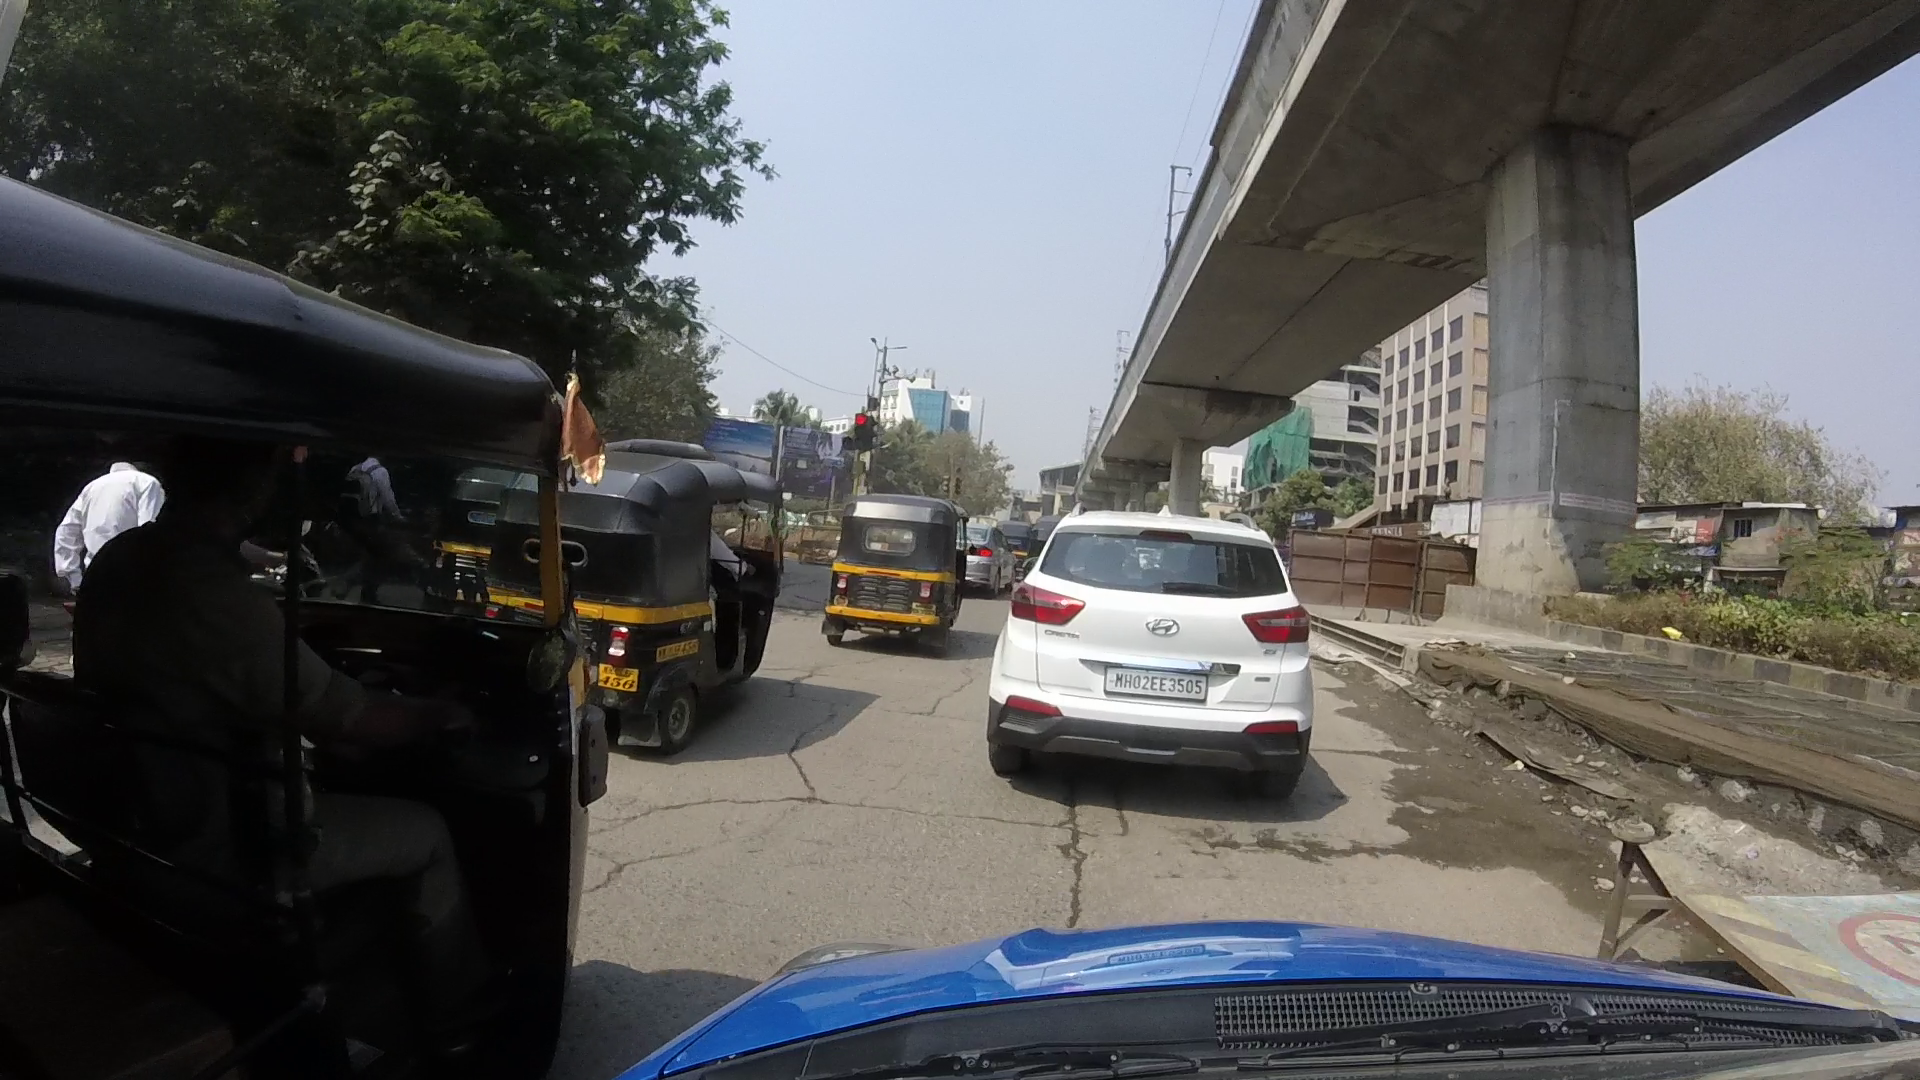car: (1000, 506, 1311, 789)
rickshaw: (18, 186, 580, 1080), (566, 460, 771, 757), (814, 489, 957, 642)
